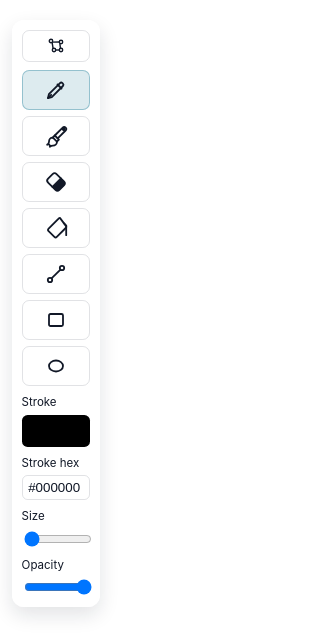
MapDrawingToolbar › hides size and softness controls for the bucket fill tool
This screenshot has width=320, height=640.
What coordinates should you click on to do the following:
click the button named "Bucket fill"
I would click on:
 (56, 228)
Its box is [22, 208, 90, 248].
(page scrolled)
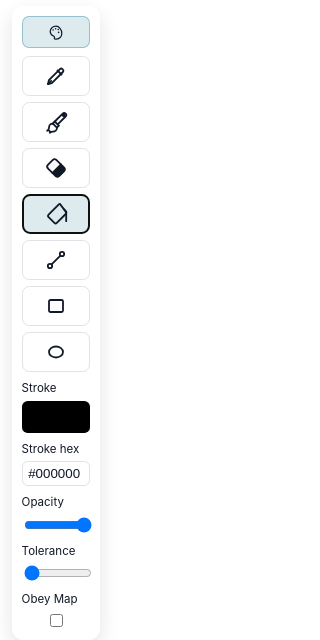
Expected: the slider labelled "Drawing tool size" is gone
Expected: the slider named "Bucket fill tolerance" is shown, [24, 565, 92, 581]
Expected: the checkbox labelled "Obey Map" is shown, [26, 614, 87, 627]
